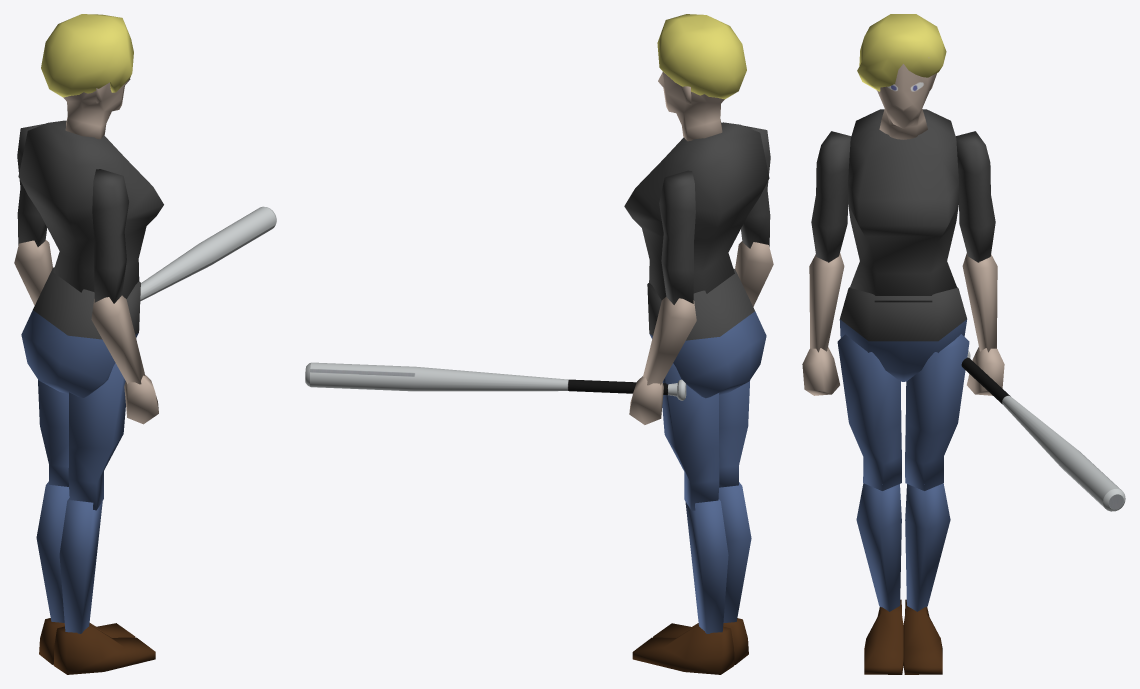
Rendered from karen.fbx.
3 views of the same model, side by side, from view 1: azimuth 30°, elevation 25°; view 2: azimuth 150°, elevation 25°; view 3: azimuth 270°, elevation 25° (orthographic).
Visible parts, largest first — view 1: f.chest, f.waist, Icosphere, f.leg.hi.r, f.leg.lo.r, f.arm.hi.r, pCylinder1, f.foot.r, f.leg.lo.l, f.arm.lo.r, f.leg.hi.l, f.head (+4 smaller); view 2: f.chest, f.waist, pCylinder1, Icosphere, f.leg.hi.l, f.leg.lo.l, f.arm.hi.l, f.foot.l, f.leg.lo.r, f.arm.lo.l, f.leg.hi.r, f.head (+4 smaller); view 3: f.chest, f.waist, f.leg.hi.r, f.leg.hi.l, Icosphere, f.leg.lo.r, f.leg.lo.l, pCylinder1, f.arm.hi.l, f.arm.hi.r, f.head, f.arm.lo.l (+5 smaller).
Boxes of the visible parts, left/top/right/bottom form: f.chest: left=18, top=120, right=163, bottom=298; f.waist: left=21, top=267, right=140, bottom=397; Icosphere: left=41, top=14, right=133, bottom=97; f.leg.hi.r: left=68, top=363, right=125, bottom=510; f.leg.lo.r: left=59, top=498, right=102, bottom=633; f.arm.hi.r: left=92, top=169, right=128, bottom=303; pCylinder1: left=140, top=206, right=276, bottom=301; f.foot.r: left=53, top=624, right=155, bottom=674; f.leg.lo.l: left=36, top=481, right=69, bottom=622; f.arm.lo.r: left=91, top=295, right=145, bottom=384; f.leg.hi.l: left=38, top=380, right=68, bottom=486; f.head: left=63, top=79, right=130, bottom=139; f.chest: left=624, top=122, right=769, bottom=300; f.waist: left=647, top=269, right=766, bottom=398; pCylinder1: left=305, top=362, right=686, bottom=400; Icosphere: left=657, top=14, right=746, bottom=99; f.leg.hi.l: left=662, top=363, right=719, bottom=510; f.leg.lo.l: left=685, top=499, right=728, bottom=633; f.arm.hi.l: left=659, top=170, right=695, bottom=304; f.foot.l: left=632, top=624, right=734, bottom=674; f.leg.lo.r: left=718, top=482, right=751, bottom=623; f.arm.lo.l: left=643, top=296, right=696, bottom=385; f.leg.hi.r: left=719, top=380, right=750, bottom=487; f.head: left=658, top=49, right=724, bottom=141; f.chest: left=848, top=109, right=959, bottom=302; f.waist: left=839, top=287, right=967, bottom=381; f.leg.hi.r: left=837, top=334, right=901, bottom=490; f.leg.hi.l: left=905, top=334, right=969, bottom=490; Icosphere: left=857, top=14, right=946, bottom=91; f.leg.lo.r: left=856, top=483, right=901, bottom=611; f.leg.lo.l: left=905, top=483, right=950, bottom=611; pCylinder1: left=961, top=350, right=1125, bottom=511; f.arm.hi.l: left=955, top=131, right=995, bottom=262; f.arm.hi.r: left=811, top=131, right=851, bottom=262; f.head: left=876, top=57, right=936, bottom=139; f.arm.lo.l: left=962, top=253, right=997, bottom=352.
Bounding box in the file's own units: 118 × 209 × 96.92.
